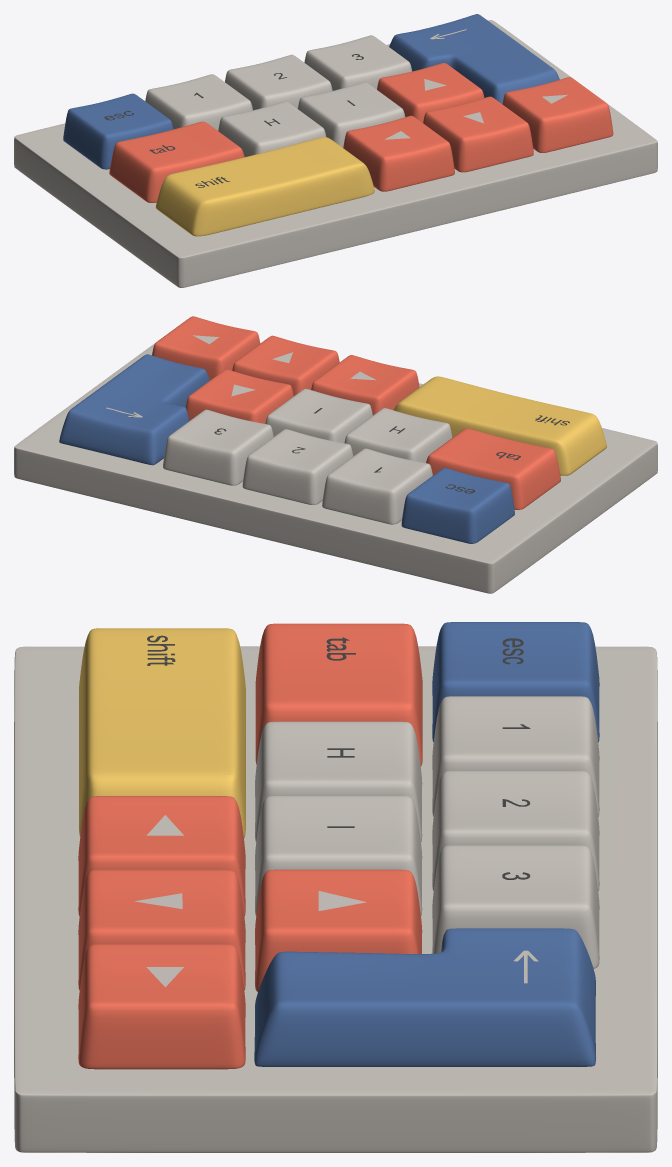
The model's file is minikeyboard.glb.
3 renders of one model, top to bottom at view 1: azimuth 30°, elevation 25°; view 2: azimuth 150°, elevation 25°; view 3: azimuth 270°, elevation 25°, orthographic. The views are drawn at different scales.
Visible parts, largest first — view 1: Cube_0, Cube.010_19, Cube.002_2, Cube.007_16, Cube.004_15; view 2: Cube_0, Cube.002_2, Cube.010_19, Cube.004_15, Cube.007_16; view 3: Cube_0, Cube.010_19, Cube.002_2, Cube.004_15, Cube.007_16.
Part boxes in pixels (x1,y1,x2,y2): Cube_0: (14, 20, 657, 287); Cube.010_19: (109, 63, 613, 202); Cube.002_2: (145, 35, 412, 156); Cube.007_16: (155, 137, 374, 236); Cube.004_15: (63, 14, 559, 169); Cube_0: (14, 343, 657, 593); Cube.002_2: (163, 388, 452, 524); Cube.010_19: (152, 316, 560, 509); Cube.004_15: (59, 354, 514, 543); Cube.007_16: (394, 376, 606, 475); Cube_0: (14, 646, 657, 1152); Cube.010_19: (78, 623, 422, 1069); Cube.002_2: (255, 696, 599, 968); Cube.004_15: (254, 622, 599, 1066); Cube.007_16: (79, 628, 245, 838).
Bounding box in the file's own units: 3 × 0.3716 × 1.81.
